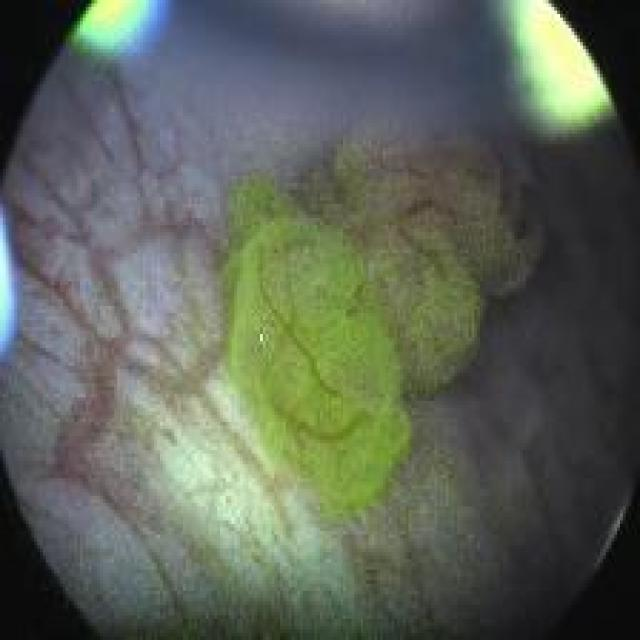color misalignment: (492, 1, 616, 137), (68, 1, 171, 68), (1, 204, 20, 364), (598, 496, 628, 569), (256, 329, 265, 343), (345, 305, 354, 315)
